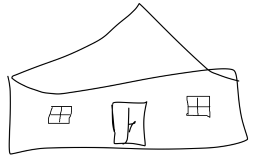big_house: (0, 0, 260, 164)
closed_window: (176, 88, 215, 122), (42, 102, 77, 131)
door: (105, 98, 154, 155)
roof: (7, 3, 251, 98)
wall: (5, 71, 250, 156)
